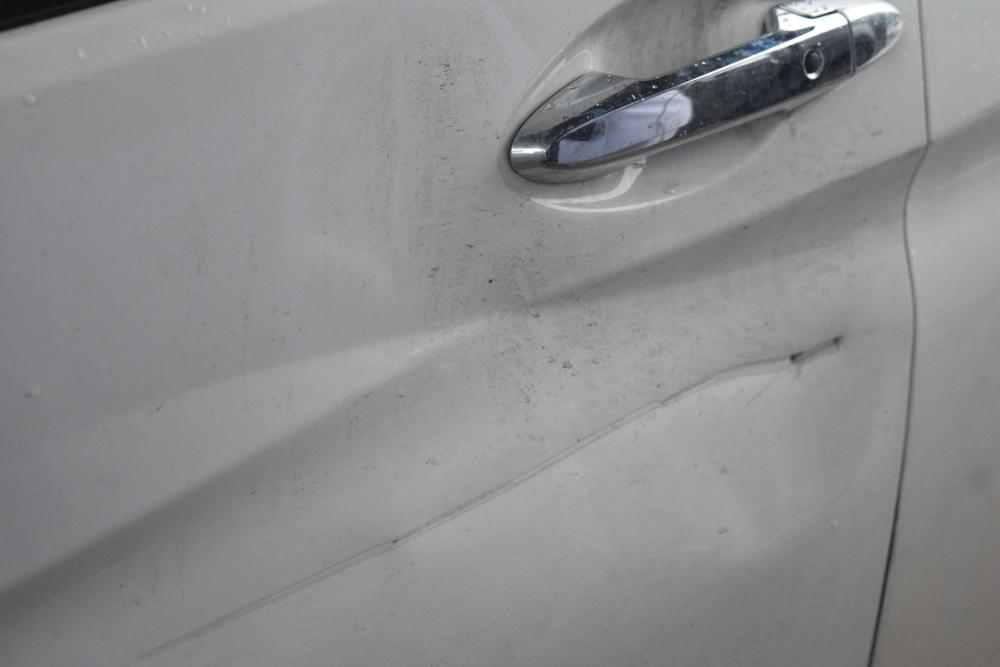dent: (305, 50, 896, 537)
